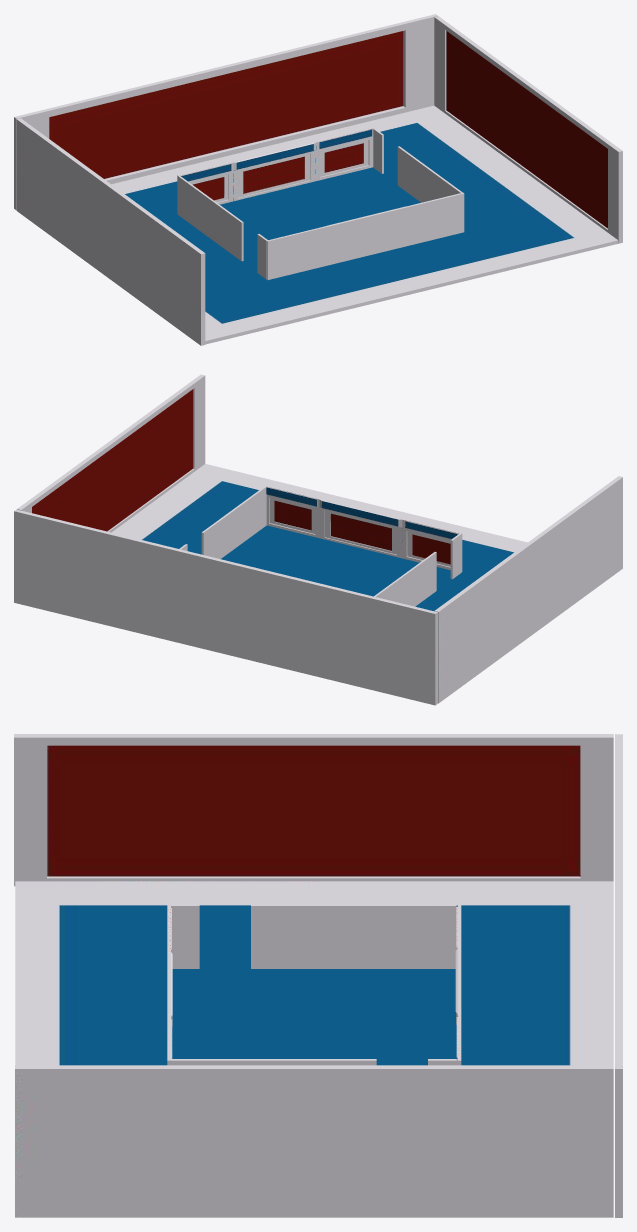
Rendered from ATO2.fbx.
3 views of the same model, one above another, from view 1: azimuth 30°, elevation 25°; view 2: azimuth 150°, elevation 25°; view 3: azimuth 270°, elevation 25° (orthographic). The views are drawn at different scales.
Visible parts, largest first — view 1: PAREDE_TRAS1; view 2: PAREDE_TRAS1; view 3: PAREDE_TRAS1.
Boxes of the visible parts, <box> form: PAREDE_TRAS1: <box>14,14,622,345</box>; PAREDE_TRAS1: <box>14,374,622,705</box>; PAREDE_TRAS1: <box>14,734,622,1217</box>.
Bounding box in the file's own units: 37.05 × 7.69 × 28.49.
1 material, 1 textured.
